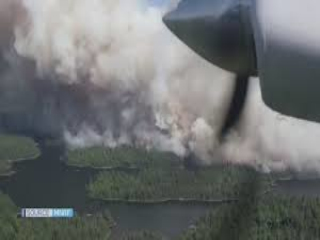smoke: (8, 7, 209, 158), (67, 105, 278, 170)
